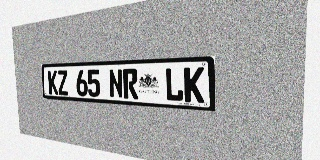5: (87, 69, 100, 97)
6: (76, 70, 88, 96)
K: (184, 67, 204, 103), (48, 70, 58, 95)
L: (165, 67, 183, 102)
N: (109, 69, 123, 98)
R: (123, 68, 138, 99)
Z: (57, 70, 68, 95)
